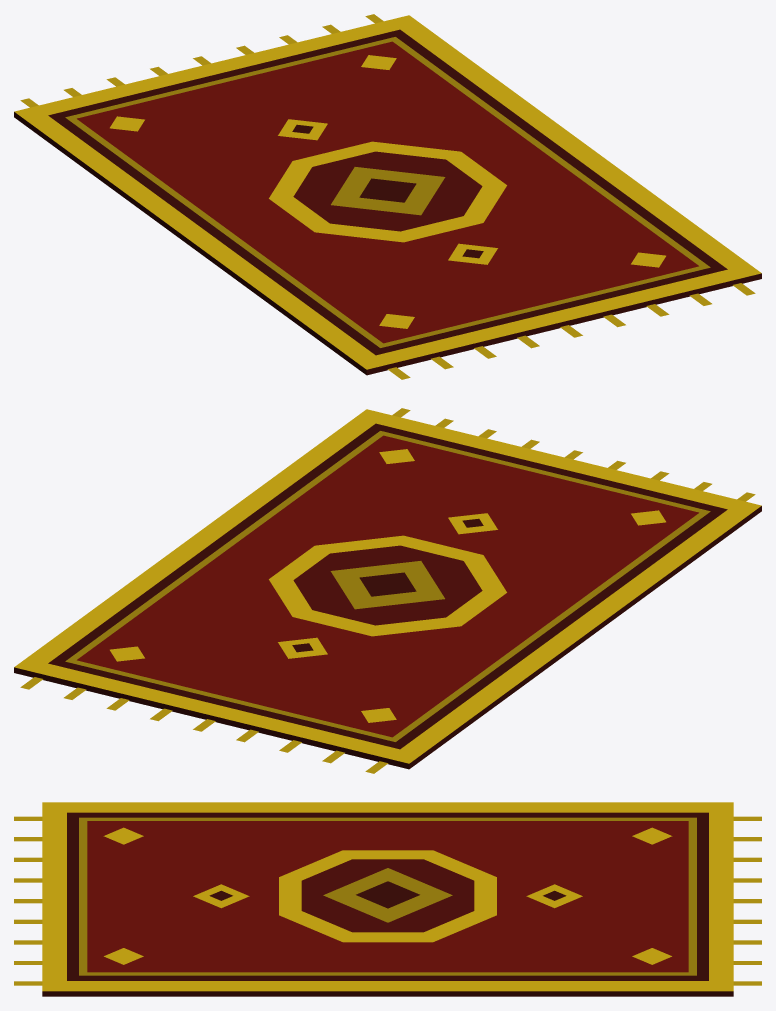
Rendered from fancy_rug.obj.
The picture shows the model from 3 angles, top to bottom: view 1: azimuth 30°, elevation 25°; view 2: azimuth 150°, elevation 25°; view 3: azimuth 270°, elevation 25°; orthographic projection. The views are drawn at different scales.
Parts seen in each view (by area): view 1: FancyRug; view 2: FancyRug; view 3: FancyRug.
Part boxes in pixels (left/top/right/bottom): FancyRug: left=14, top=14, right=761, bottom=379; FancyRug: left=14, top=408, right=761, bottom=773; FancyRug: left=14, top=802, right=761, bottom=996.
Bounding box in the file's own units: 220 × 4 × 368.
